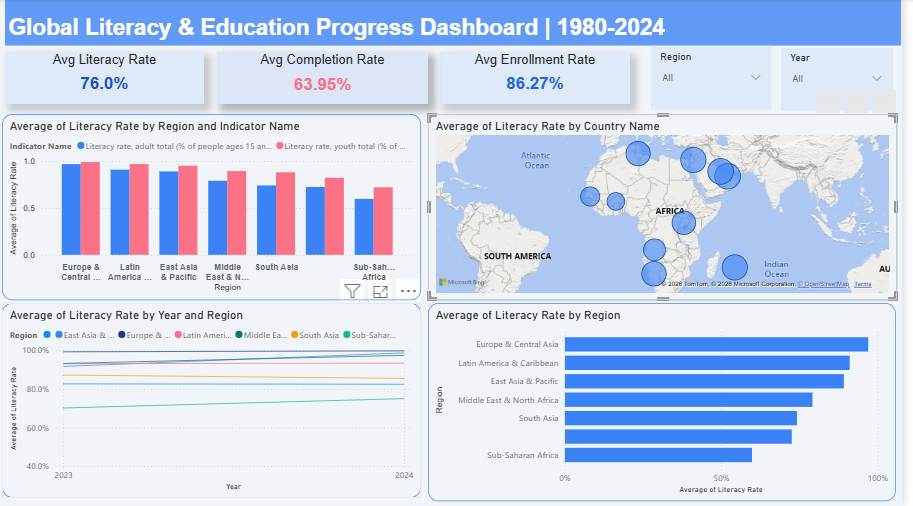

The dashboard page shown, as its layout file describes it:
{"tool":"powerbi","page":{"name":"Page 1","canvas":[1280,720],"ordinal":0},"visuals":[{"type":"card","title":"Avg Literacy Rate","fields":{"Values":["Avg(WDICSV.Literacy Rate)"]},"box":[9.9,75.1,282,73.7],"z":0},{"type":"textbox","box":[10.1,0,1269.9,65.5],"z":1000},{"type":"card","title":"Avg Enrollment Rate","fields":{"Values":["Avg(WDICSV.Literacy Rate)"]},"box":[626.5,75.1,269.3,73.7],"z":2000},{"type":"card","title":"Avg Completion Rate","fields":{"Values":["Avg(WDICSV.Literacy Rate)"]},"box":[310.4,75.1,299.1,73.7],"z":3000},{"type":"slicer","fields":{"Values":["WDICSV.Year"]},"box":[1109.8,69.4,158.7,89.3],"z":4000},{"type":"slicer","fields":{"Values":["WDICountry.Region"]},"box":[925.5,68,171.5,89.3],"z":5000},{"type":"lineChart","fields":{"Y":["Avg(WDICSV.Literacy Rate)"],"Series":["WDICountry.Region"],"Category":["WDICSV.Year"]},"box":[5.7,430.9,593.9,276.4],"z":6000},{"type":"map","fields":{"Category":["WDICSV.Country Name"],"Size":["Avg(WDICSV.Literacy Rate)"]},"box":[609.4,163,664.7,263.6],"z":7000},{"type":"clusteredBarChart","fields":{"Category":["WDICountry.Region"],"Y":["Avg(WDICSV.Literacy Rate)"]},"box":[609.4,430.9,663.3,280.6],"z":8000},{"type":"clusteredColumnChart","fields":{"Category":["WDICountry.Region"],"Y":["Avg(WDICSV.Literacy Rate)"],"Series":["WDICSV.Indicator Name"]},"box":[5.7,163,593.9,263.6],"z":9000}]}

Visuals, with their boxes in screenshot pixels (x1, y1, x2, y2), scaled from the page's 1280x720 canvas onto the 913x506 screenshot:
"Avg Literacy Rate" card: 7/53/208/105
textbox: 7/0/912/46
"Avg Enrollment Rate" card: 447/53/639/105
"Avg Completion Rate" card: 221/53/435/105
slicer - WDICSV.Year: 792/49/905/112
slicer - WDICountry.Region: 660/48/782/111
lineChart - Avg(WDICSV.Literacy Rate) x WDICountry.Region: 4/303/428/497
map - WDICSV.Country Name x Avg(WDICSV.Literacy Rate): 435/115/909/300
clusteredBarChart - WDICountry.Region x Avg(WDICSV.Literacy Rate): 435/303/908/500
clusteredColumnChart - WDICountry.Region x Avg(WDICSV.Literacy Rate): 4/115/428/300
